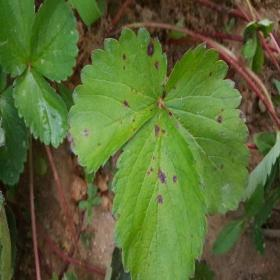Leaf Spot: (110, 101, 209, 279), (160, 42, 251, 218), (65, 24, 167, 174)
